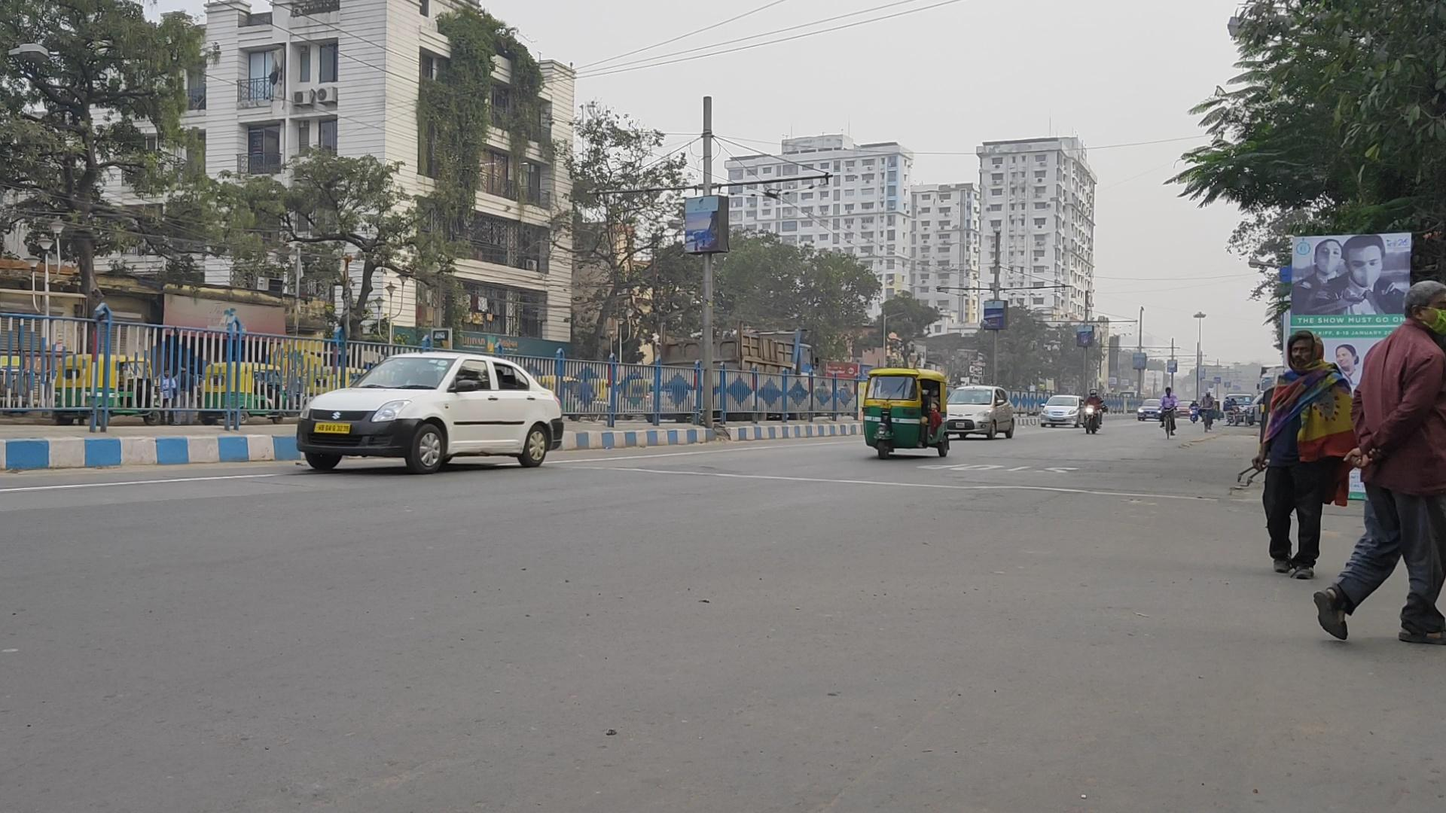Auto: (862, 368, 950, 461)
bike: (1081, 388, 1107, 434), (1160, 387, 1178, 440), (1199, 391, 1216, 432), (1188, 398, 1200, 425)
car: (296, 351, 564, 473), (941, 385, 1015, 440), (1039, 394, 1088, 428), (1137, 398, 1164, 422), (1173, 399, 1195, 418)
